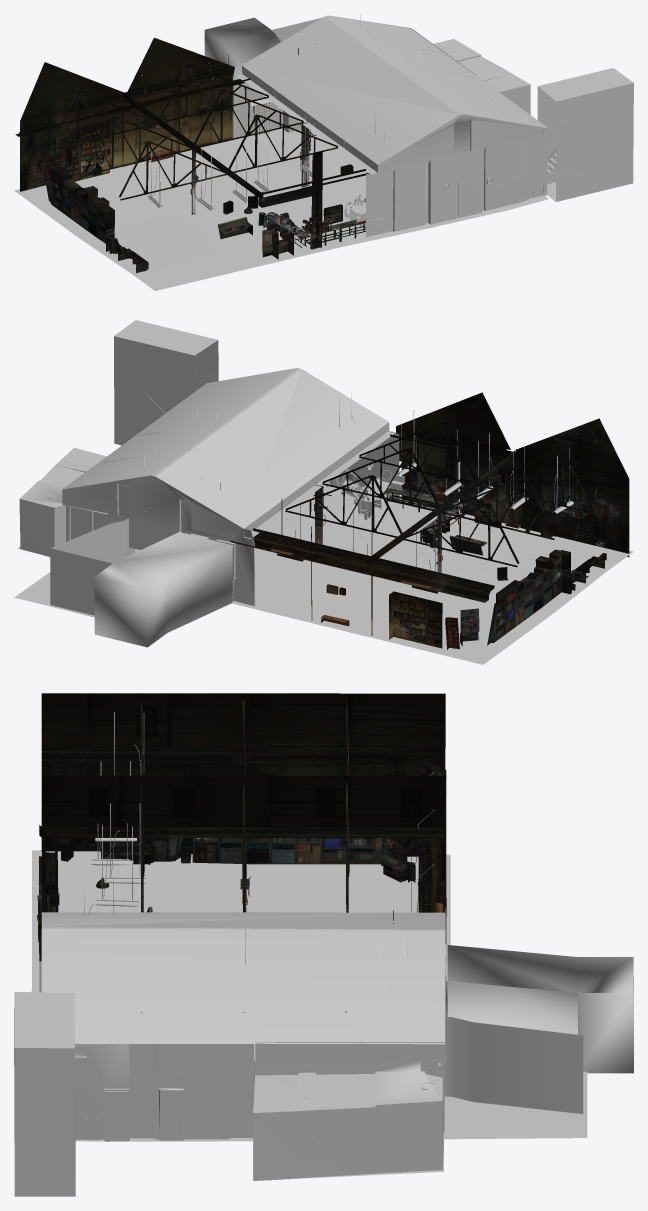
3 renders of one model, top to bottom at view 1: azimuth 30°, elevation 25°; view 2: azimuth 150°, elevation 25°; view 3: azimuth 270°, elevation 25°, orthographic. The views are drawn at different scales.
Parts seen in each view (by area): view 1: WallsA_D (×2), WallsB_D, Ground_D, Pillars_D; view 2: WallsA_D (×2), WallsB_D, Ground_D, Pillars_D; view 3: WallsA_D (×2), WallsB_D, Ground_D.
Part boxes in pixels (x1,y1,x2,y2): WallsA_D (×2): [82, 14, 633, 236]; WallsB_D: [15, 37, 369, 272]; Ground_D: [14, 127, 548, 290]; Pillars_D: [190, 122, 316, 214]; WallsA_D (×2): [19, 320, 573, 647]; WallsB_D: [201, 392, 629, 649]; Ground_D: [14, 485, 633, 664]; Pillars_D: [313, 485, 442, 572]; WallsA_D (×2): [14, 712, 633, 1196]; WallsB_D: [37, 693, 446, 961]; Ground_D: [31, 850, 587, 1180].
Size of the model in its own units: 1134 by 352 by 867.
